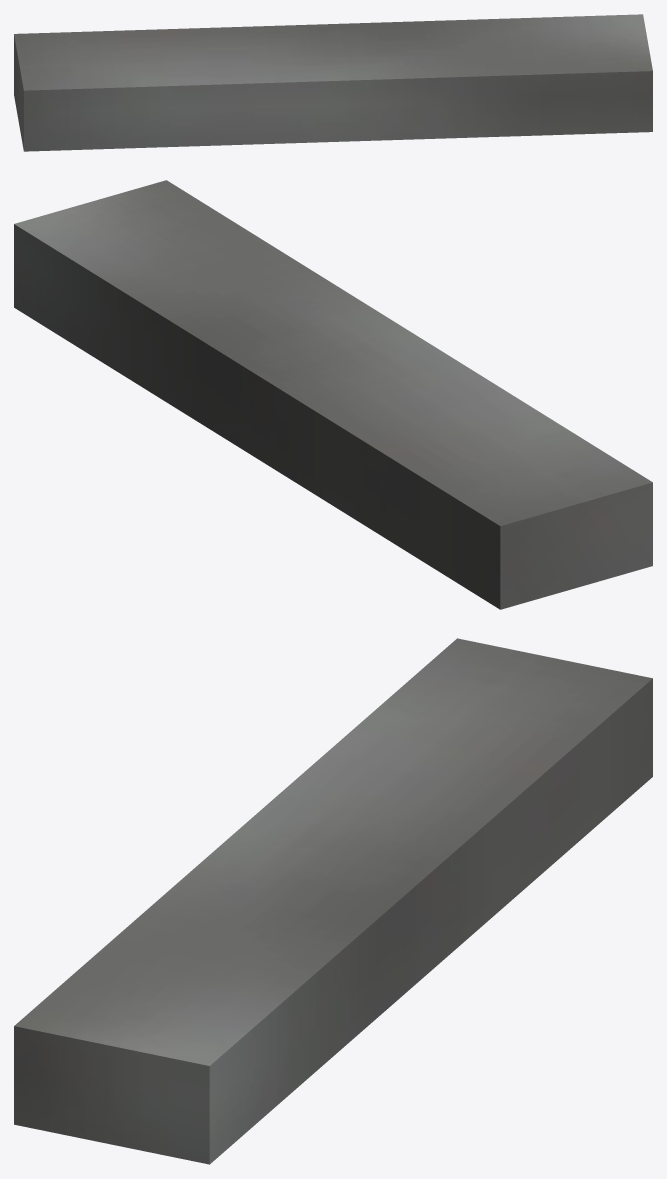
File: pump_body__gauge_tick_4.glb
3 renders of one model, top to bottom at view 1: azimuth 30°, elevation 25°; view 2: azimuth 150°, elevation 25°; view 3: azimuth 270°, elevation 25°, orthographic. The views are drawn at different scales.
Visible parts, largest first — view 1: geometry_0; view 2: geometry_0; view 3: geometry_0.
Part boxes in pixels (<box>): geometry_0: <box>14,14,652,151</box>; geometry_0: <box>14,180,652,609</box>; geometry_0: <box>14,638,652,1164</box>.
Size of the model in its own units: 0.0149 by 0.0016 by 0.00941.
Materials: 1 (1 with a texture image).
